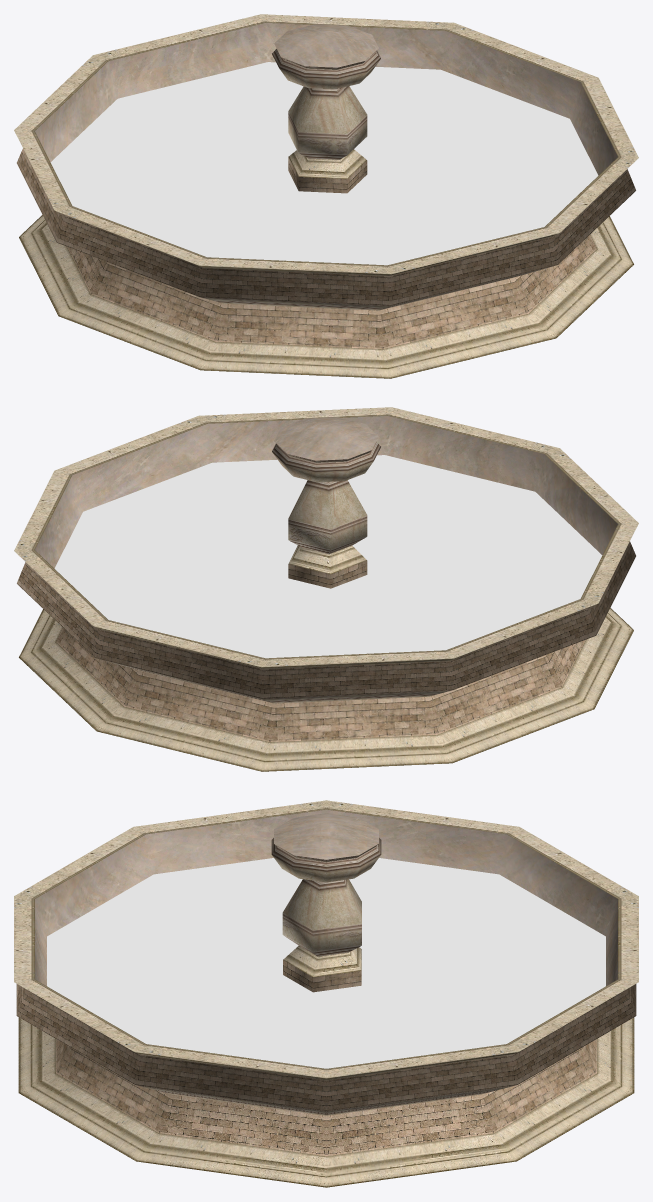
The model's file is mun_all_imprv_fountain_sm_s01_l1.fbx.
The picture shows the model from 3 angles, top to bottom: view 1: azimuth 30°, elevation 25°; view 2: azimuth 150°, elevation 25°; view 3: azimuth 270°, elevation 25°; orthographic projection. The views are drawn at different scales.
Visible parts, largest first — view 1: mesh_node; view 2: mesh_node; view 3: mesh_node.
Boxes of the visible parts, left/top/right/bottom form: mesh_node: left=14, top=14, right=638, bottom=378; mesh_node: left=14, top=407, right=638, bottom=771; mesh_node: left=14, top=800, right=638, bottom=1187.
Bounding box in the file's own units: 8.08 × 3.09 × 7.69.
